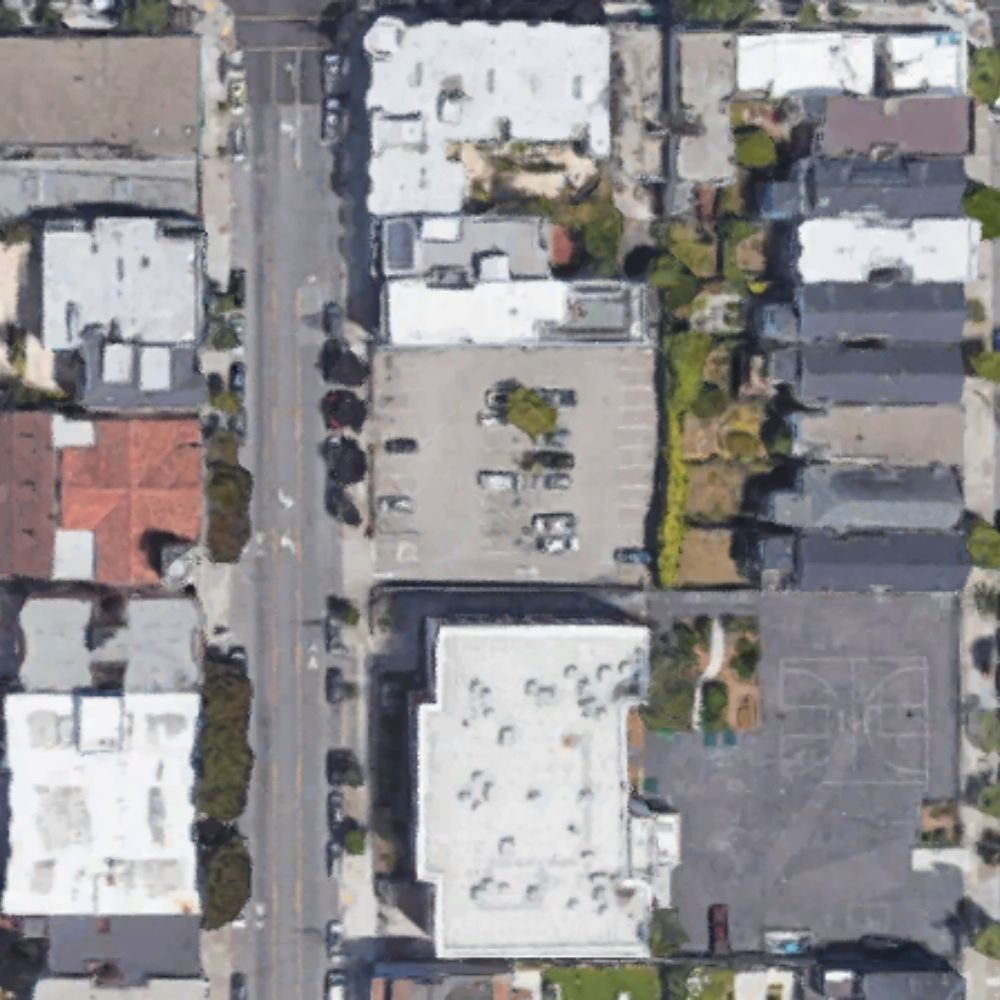parking: (370, 350, 655, 575)
